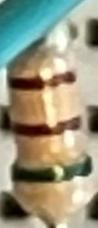Brown: (8, 70, 77, 91), (15, 116, 83, 137)
Green: (12, 162, 92, 182)
Side-Silver: (8, 19, 75, 64)
